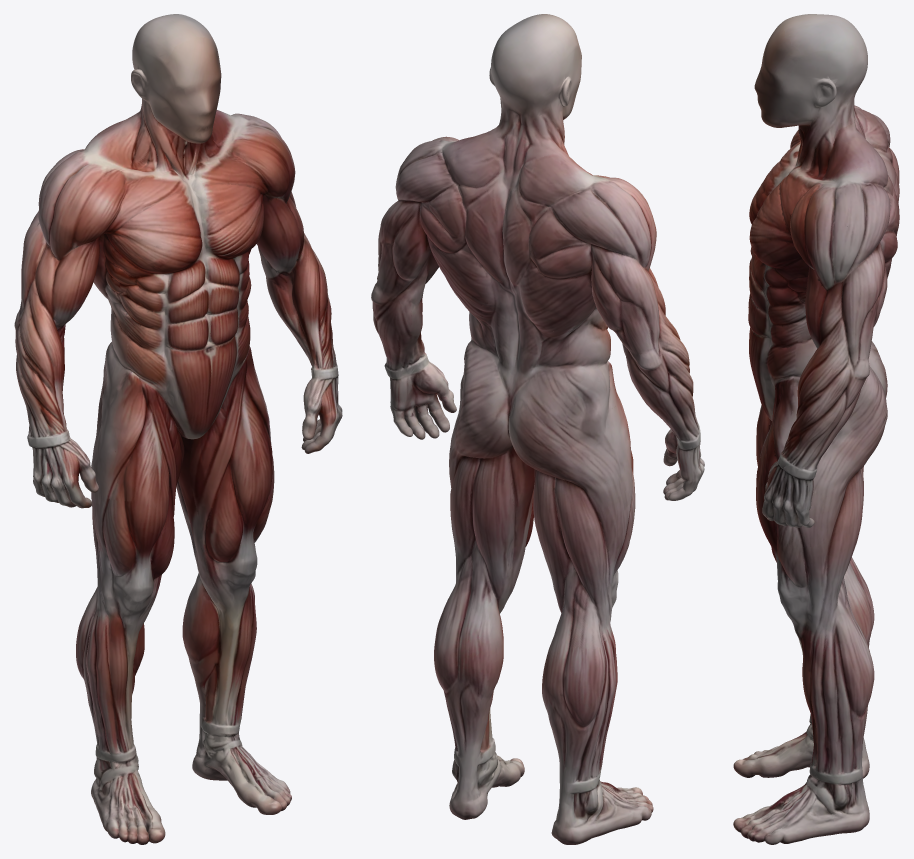
3 renders of one model, left to right at view 1: azimuth 30°, elevation 25°; view 2: azimuth 150°, elevation 25°; view 3: azimuth 270°, elevation 25°, orthographic.
Visible parts, largest first — view 1: tripo_node_ba03471b-deb3-430b-bf6c-04130859eebe; view 2: tripo_node_ba03471b-deb3-430b-bf6c-04130859eebe; view 3: tripo_node_ba03471b-deb3-430b-bf6c-04130859eebe.
Boxes of the visible parts, <box> form: tripo_node_ba03471b-deb3-430b-bf6c-04130859eebe: <box>14,14,342,844</box>; tripo_node_ba03471b-deb3-430b-bf6c-04130859eebe: <box>371,14,704,844</box>; tripo_node_ba03471b-deb3-430b-bf6c-04130859eebe: <box>733,14,899,844</box>.
Size of the model in its own units: 0.4103 by 1 by 0.1914.
1 material, 1 textured.
